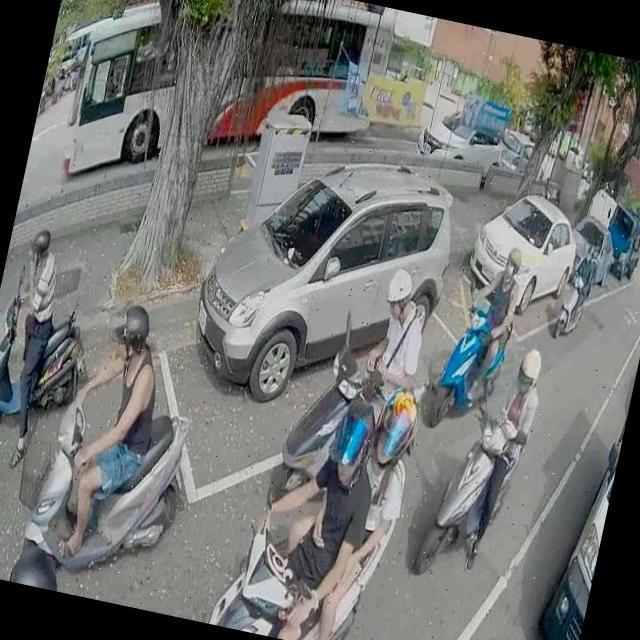person: (224, 377, 390, 640), (269, 366, 423, 640), (37, 285, 178, 574), (455, 334, 548, 578), (0, 216, 73, 471), (442, 242, 532, 420), (355, 260, 437, 420), (7, 534, 67, 592), (566, 240, 604, 322), (64, 46, 83, 90)
